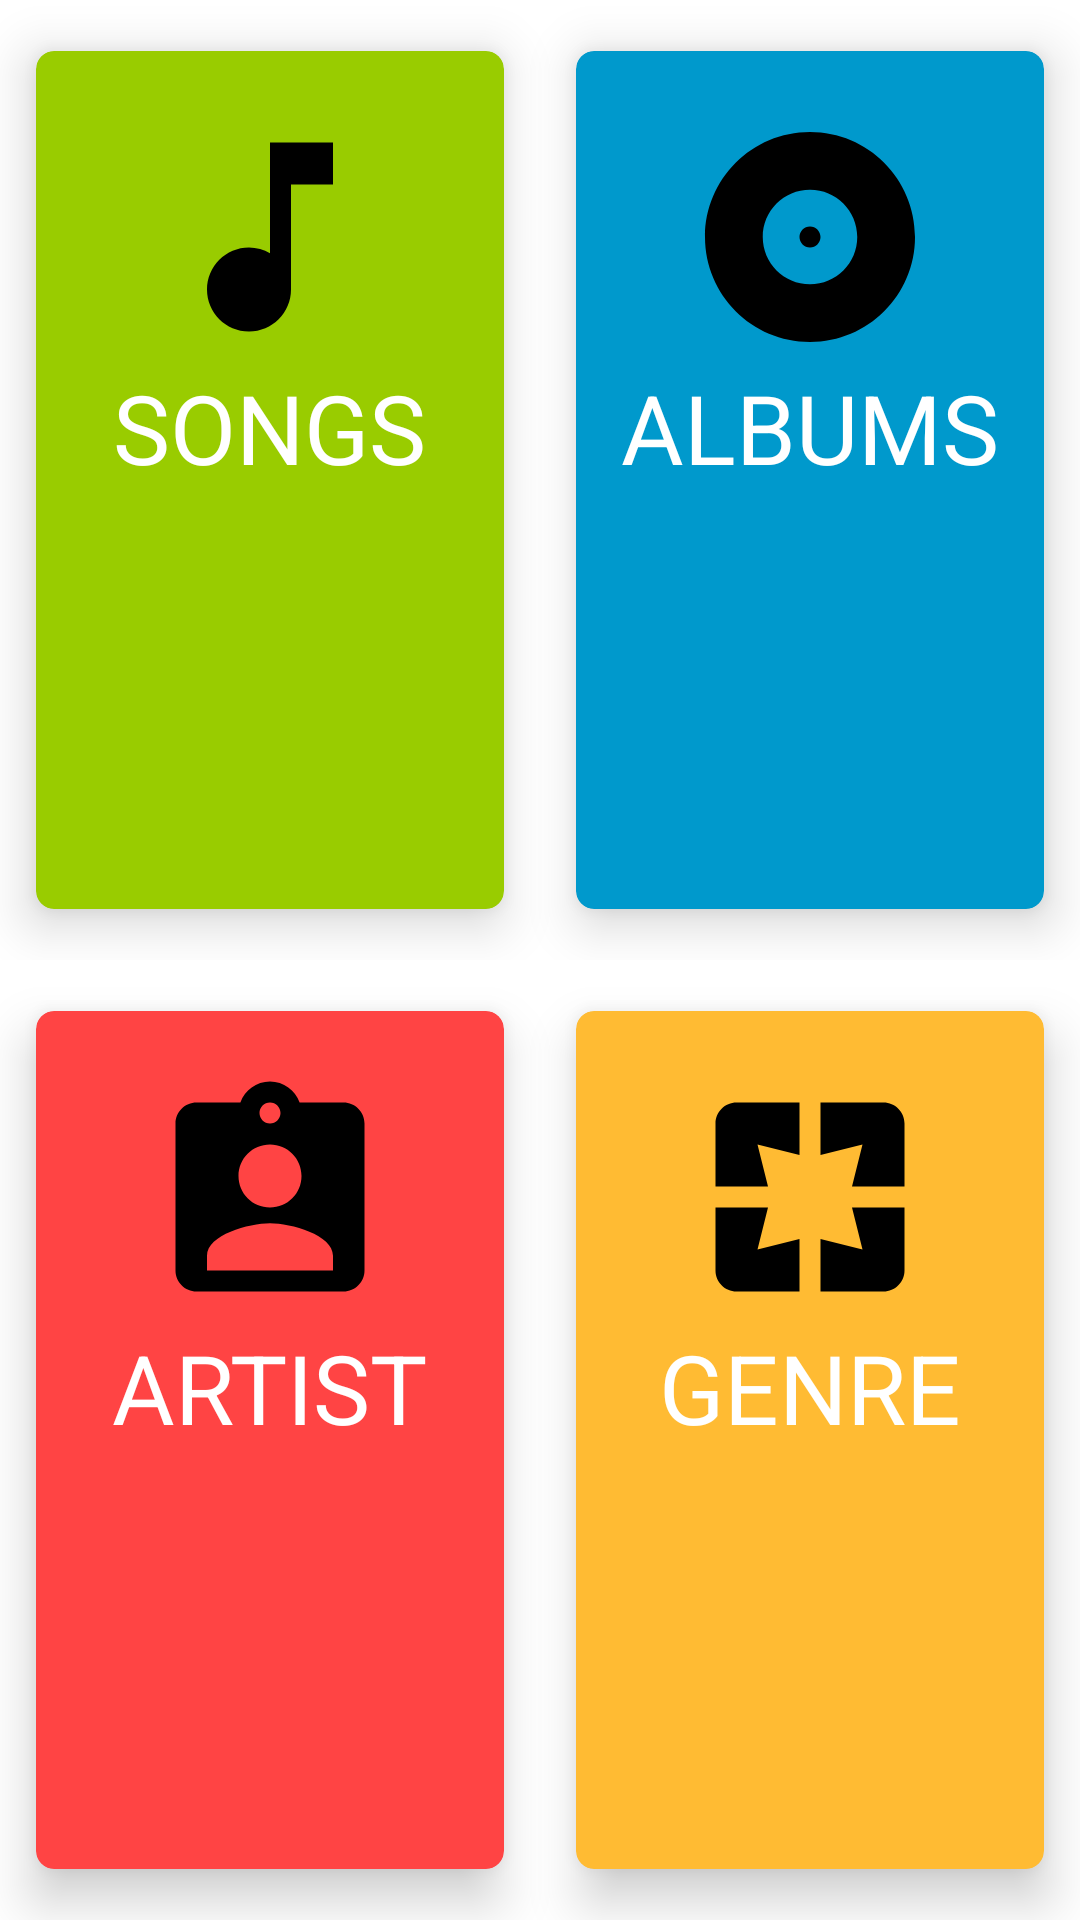

Named icons in this screenshot (1080px x 1920px) and their bounding boxes, (x1,y1,x2,y2):
assignment ind: (175,1081,365,1292)
music note: (207,142,333,332)
pages: (715,1102,905,1292)
